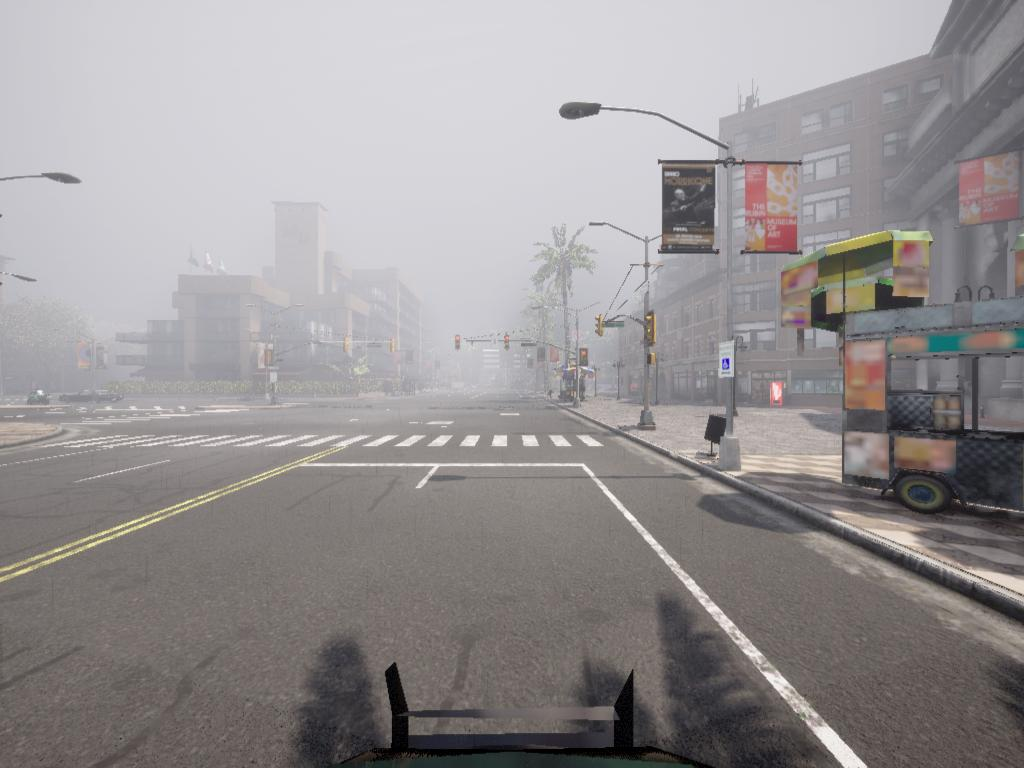traffic_light: (647, 313, 658, 344), (594, 315, 605, 340), (582, 351, 593, 368), (454, 336, 462, 350), (503, 335, 511, 349), (389, 338, 396, 354), (343, 339, 350, 355)
